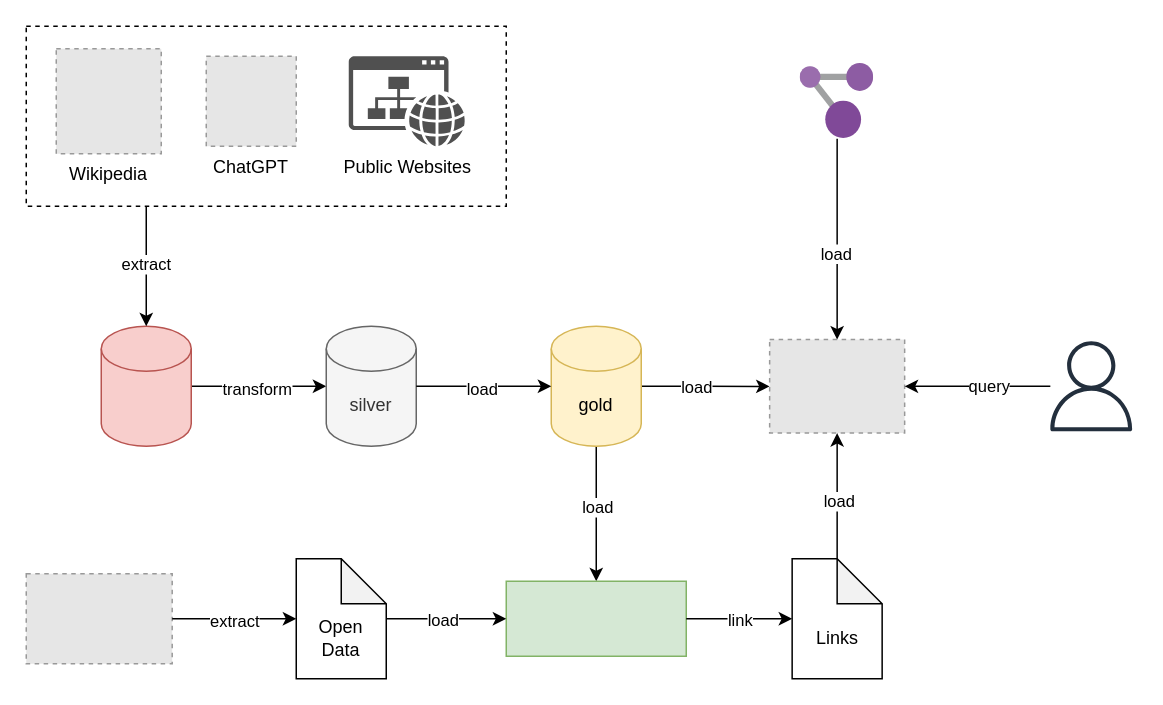
Some shapes in this 1163 by 705 pixel diagram are drawn without their labels. Grey dashed boxes stand in for pictures. Each missing label, with the centre of its shape:
bronze: (x=145, y=385)
Ontology: (x=836, y=100)
Silk Framework: (x=595, y=618)
